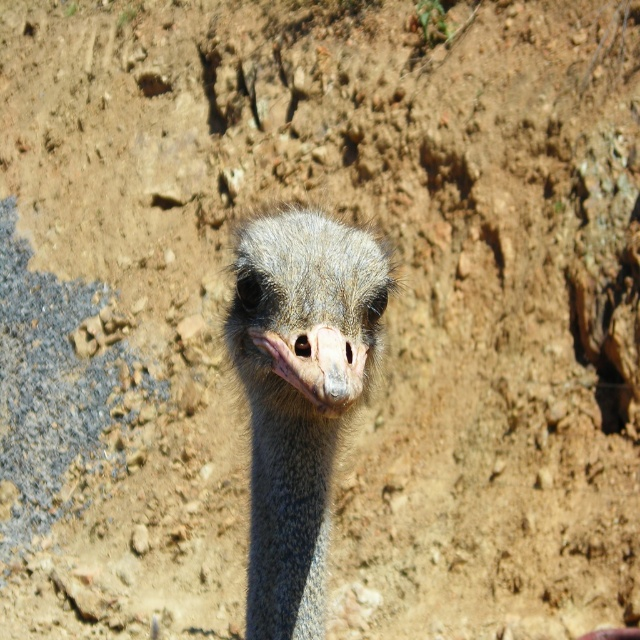Ostrich: (215, 183, 404, 630)
